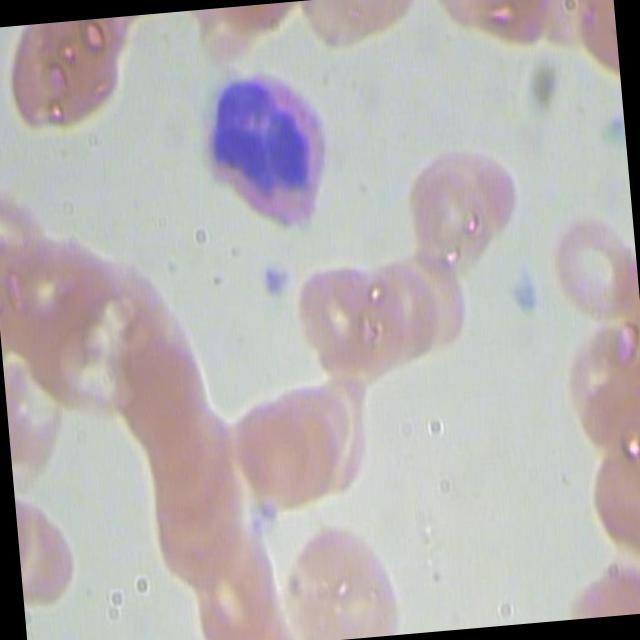Platelets: (257, 260, 290, 301), (509, 273, 542, 314)
RBC: (269, 505, 418, 640), (395, 142, 524, 278), (0, 16, 125, 146), (288, 245, 391, 381), (542, 192, 640, 325), (110, 325, 215, 447), (185, 518, 283, 640), (545, 319, 640, 441), (227, 384, 321, 504), (359, 255, 446, 362), (572, 438, 640, 559)
WBC: (188, 62, 344, 244)
